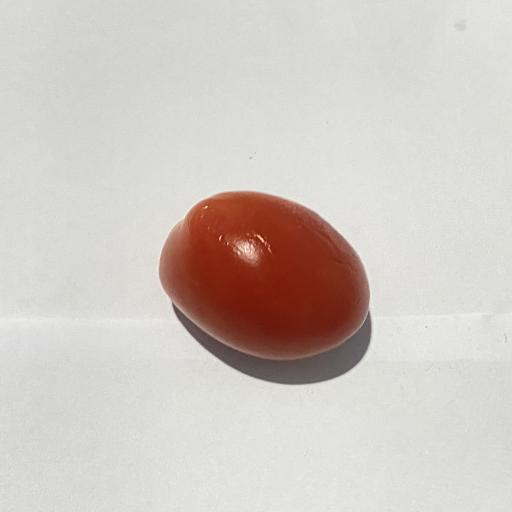spoiled: (159, 191, 369, 359)
